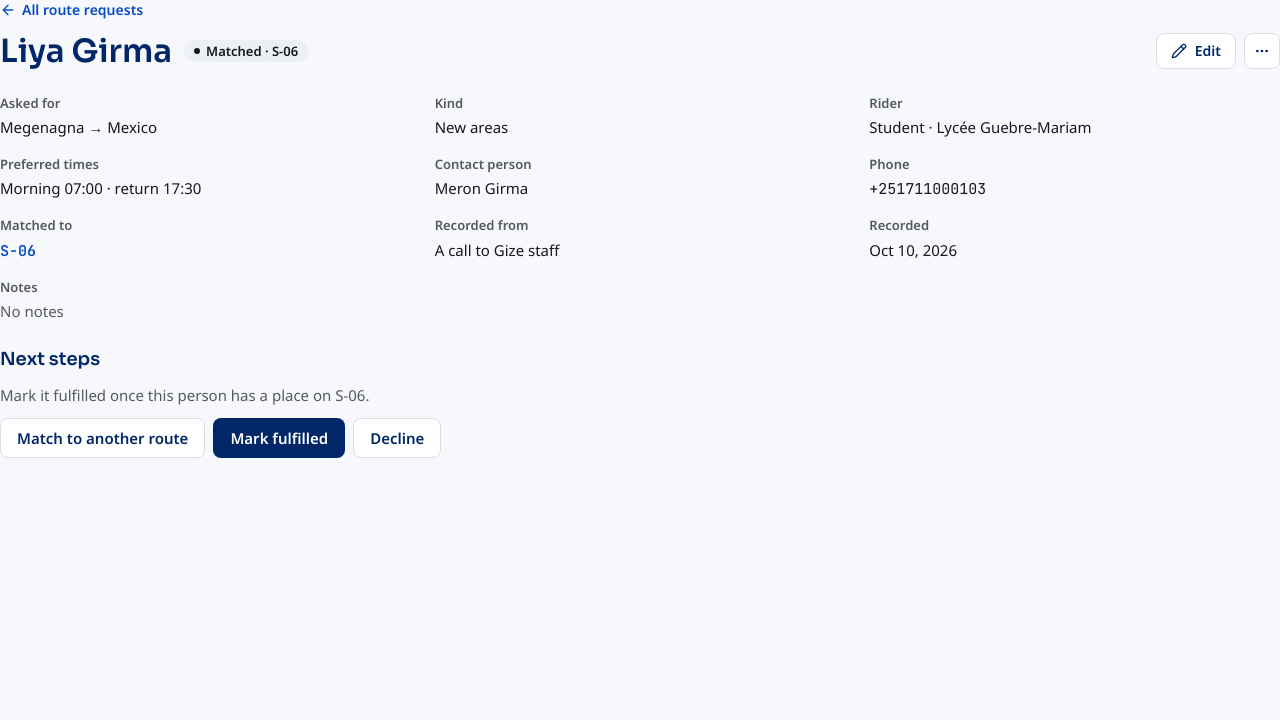
Test case: RouteRequestDetail › marks a request fulfilled, confirmed
expect the heading "Liya Girma" is shown: met, box [0,32,172,70]
Click the button "Mark fulfilled" at {"x": 279, "y": 438}, box [213,418,345,458]
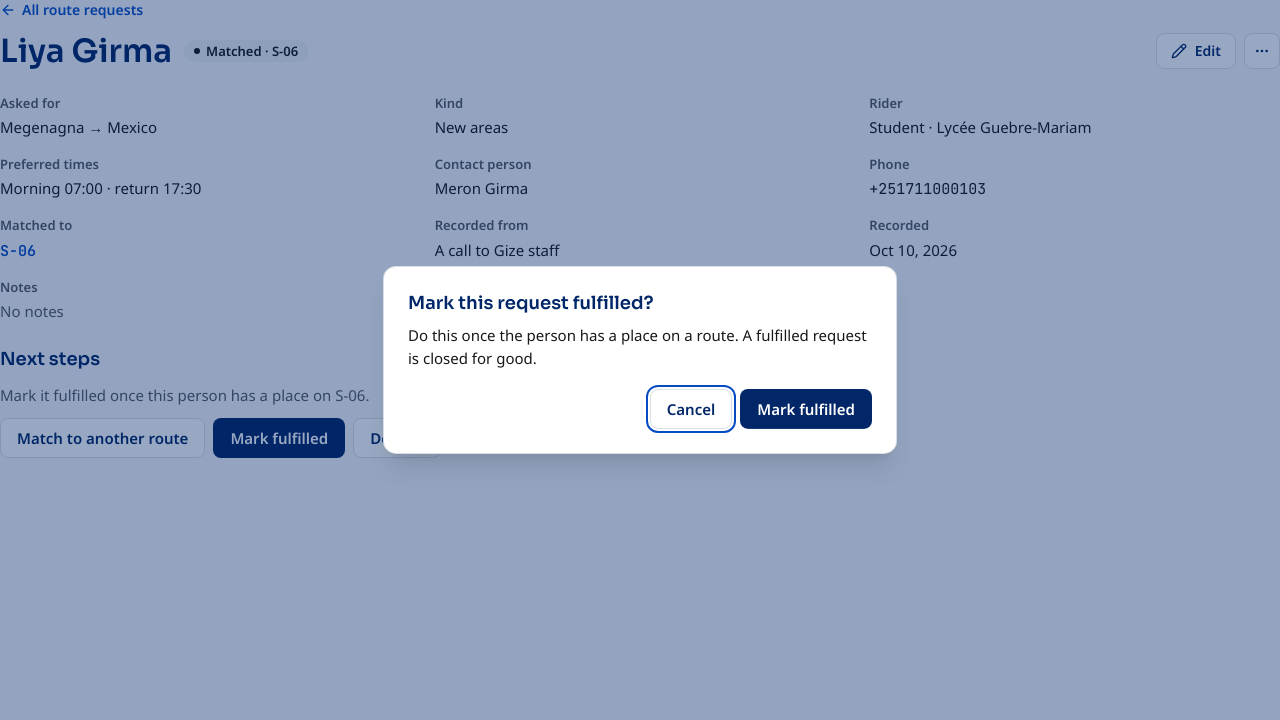
Click the button "Mark fulfilled" at {"x": 806, "y": 409}, box [740,389,872,429]
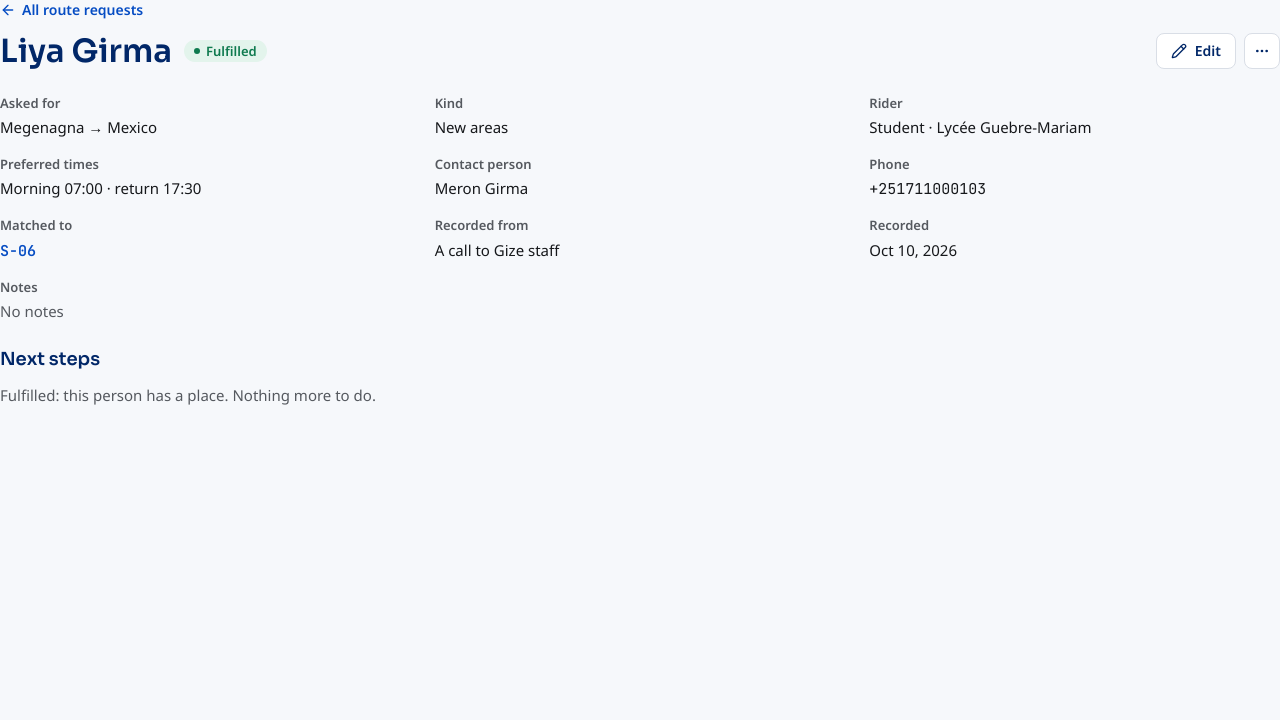
expect the text "Fulfilled: this person has a place. Nothing more to do." is shown: met, box [0,385,376,405]
